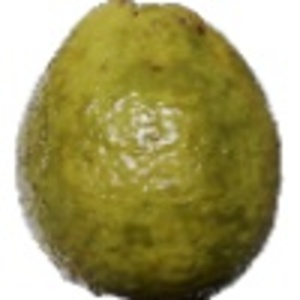goiaba: (10, 3, 288, 298)
